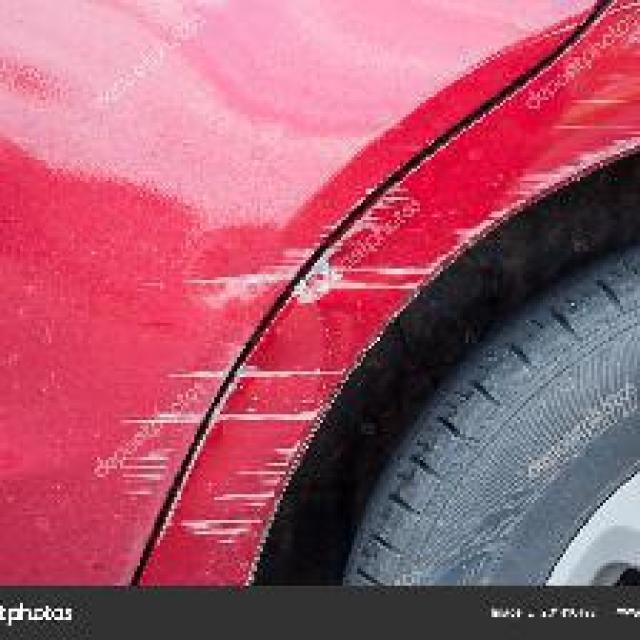damaged: (114, 186, 429, 552), (526, 6, 638, 218)
